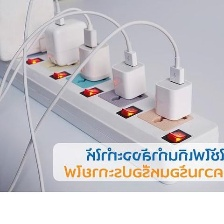three_eye_plug: (0, 24, 221, 187)
